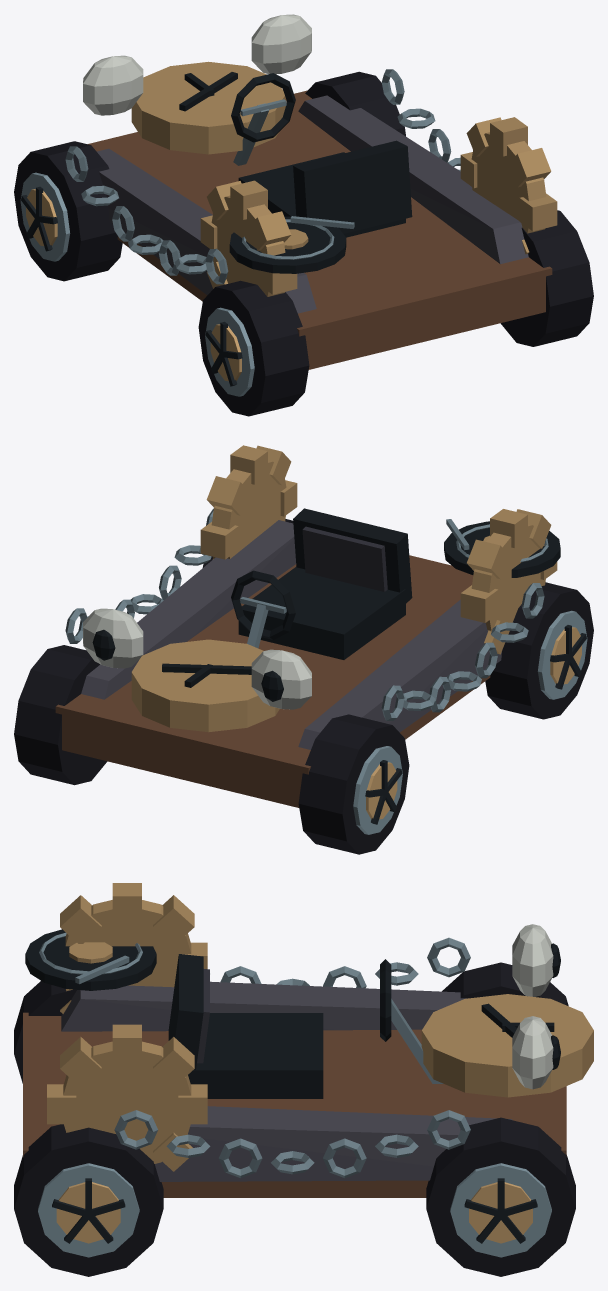
Rendered from kart.glb.
3 views of the same model, one above another, from view 1: azimuth 30°, elevation 25°; view 2: azimuth 150°, elevation 25°; view 3: azimuth 270°, elevation 25° (orthographic). The views are drawn at different scales.
Visible parts, largest first — view 1: identity-clockwork-clockwork-brass-escapement, identity-clockwork-driver-cockpit, wheel-rear-left, wheel-front-left, wheel-rear-right, identity-clockwork-motif-eyes, identity-clockwork-motif-chains, identity-clockwork-motif-vinyl, wheel-front-right; view 2: identity-clockwork-clockwork-brass-escapement, identity-clockwork-driver-cockpit, wheel-front-left, wheel-rear-left, wheel-front-right, identity-clockwork-motif-eyes, identity-clockwork-motif-chains, identity-clockwork-motif-vinyl; view 3: identity-clockwork-clockwork-brass-escapement, wheel-front-right, wheel-rear-right, identity-clockwork-driver-cockpit, identity-clockwork-motif-chains, identity-clockwork-motif-vinyl, identity-clockwork-motif-eyes, wheel-front-left, wheel-rear-left.
Boxes of the visible parts, x1,y1,x2,y2 form: identity-clockwork-clockwork-brass-escapement: (87,61,557,369); identity-clockwork-driver-cockpit: (231,73,412,237); wheel-rear-left: (198,280,309,416); wheel-front-left: (14,141,122,281); wheel-rear-right: (500,210,593,346); identity-clockwork-motif-eyes: (83,14,311,115); identity-clockwork-motif-chains: (65,69,460,284); identity-clockwork-motif-vinyl: (229,216,354,273); wheel-front-right: (305,71,405,136); identity-clockwork-clockwork-brass-escapement: (55,445,557,807); identity-clockwork-driver-cockpit: (231,508,412,659); wheel-front-left: (298,714,409,854); wheel-rear-left: (485,582,593,719); wheel-front-right: (14,645,107,785); identity-clockwork-motif-eyes: (83,608,311,709); identity-clockwork-motif-chains: (65,508,544,720); identity-clockwork-motif-vinyl: (444,519,560,577); identity-clockwork-clockwork-brass-escapement: (23,883,593,1197); wheel-front-right: (426,1117,575,1276); wheel-rear-right: (14,1124,163,1276); identity-clockwork-driver-cockpit: (168,954,443,1098); identity-clockwork-motif-chains: (114,937,470,1178); identity-clockwork-motif-vinyl: (25,929,156,990); identity-clockwork-motif-eyes: (512,924,560,1089); wheel-front-left: (442,962,568,1005); wheel-rear-left: (14,981,76,1083).
Bounding box in the file's own units: 1.99 × 1.11 × 2.56.
